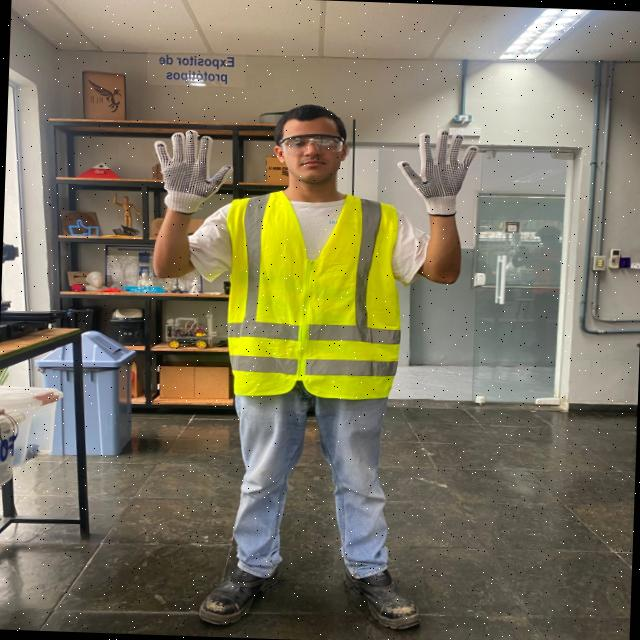BOTA: (193, 555, 283, 626), (337, 558, 421, 633)
COLETE: (213, 186, 401, 406)
LUVA: (147, 127, 238, 215), (392, 126, 478, 213)
OCULOS: (273, 130, 345, 155)
